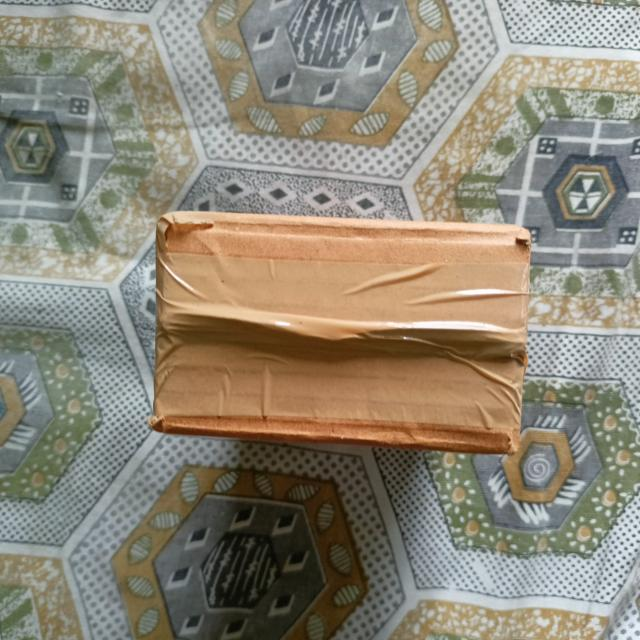box: (152, 222, 525, 449)
